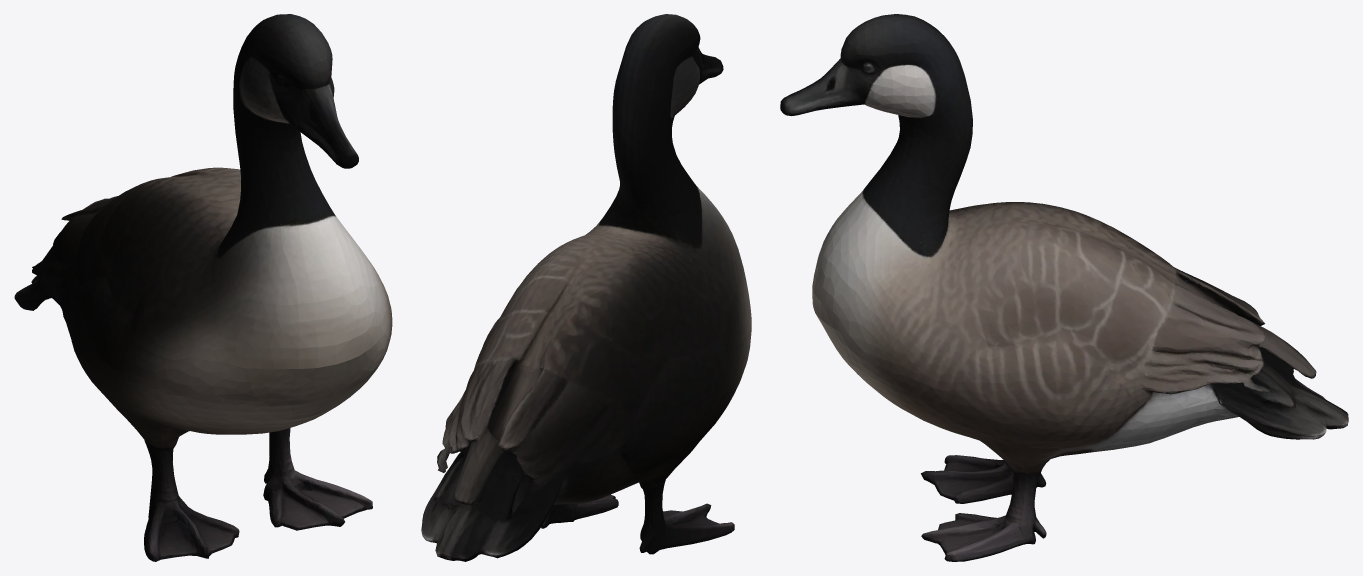
Rendered from canada_goose.glb.
3 renders of one model, left to right at view 1: azimuth 30°, elevation 25°; view 2: azimuth 150°, elevation 25°; view 3: azimuth 270°, elevation 25°, orthographic. The views are drawn at different scales.
Parts seen in each view (by area): view 1: world; view 2: world; view 3: world.
Part boxes in pixels (<box>): world: <box>14,14,392,561</box>; world: <box>421,14,751,561</box>; world: <box>780,14,1348,561</box>.
Size of the model in its own units: 0.4701 by 0.9696 by 1.
1 material, 1 textured.
